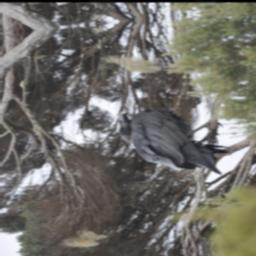Crow: (115, 101, 236, 185)
